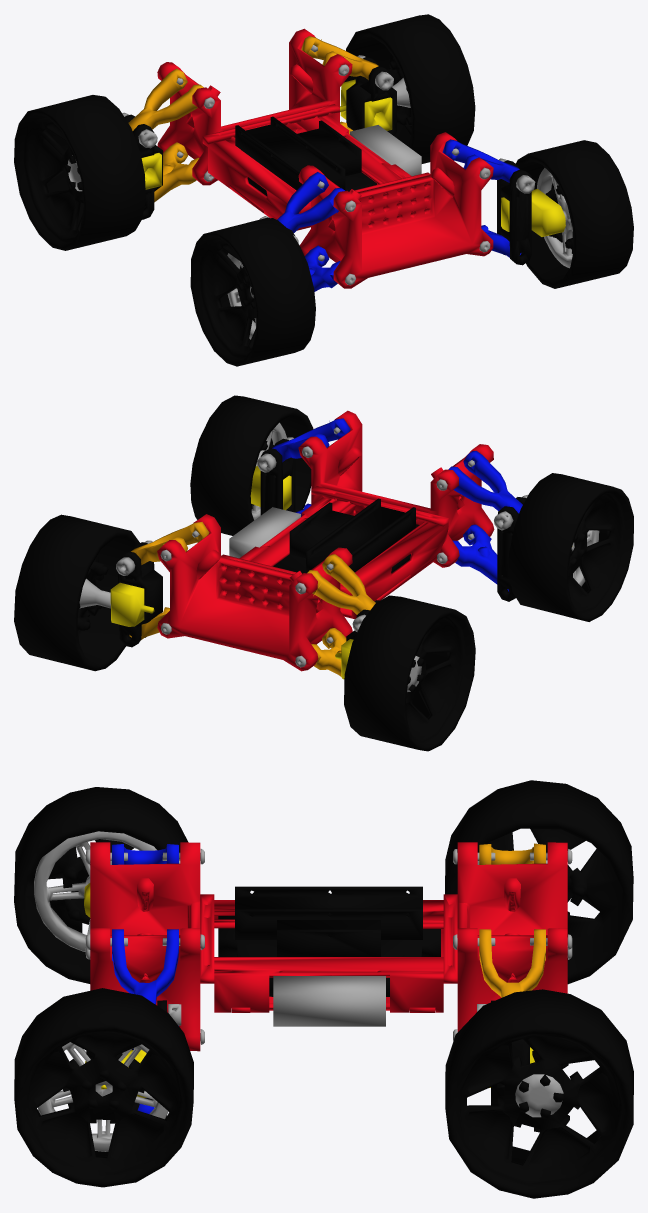
The model's file is car.glb.
The picture shows the model from 3 angles, top to bottom: view 1: azimuth 30°, elevation 25°; view 2: azimuth 150°, elevation 25°; view 3: azimuth 270°, elevation 25°; orthographic projection. The views are drawn at different scales.
Visible parts, largest first — view 1: Plane.001, Plane.024, Plane.023, Plane.014, Plane.015, Plane.009, Plane.028, Plane.022, Plane.003, Plane.045, Plane.013, Plane.027 (+12 smaller); view 2: Plane.024, Plane.009, Plane.023, Plane.015, Plane.001, Plane.014, Plane.028, Plane.045, Plane.022, Plane.006, Plane.013, Plane.027 (+11 smaller); view 3: Plane.015, Plane.014, Plane.001, Plane.024, Plane.009, Plane.023, Plane.028, Plane.013, Plane.027, Plane.063, Plane.012, Plane.032 (+5 smaller).
Part boxes in pixels (<box>): Plane.001: <box>202,104,493,288</box>; Plane.024: <box>14,95,145,250</box>; Plane.023: <box>190,217,315,366</box>; Plane.014: <box>515,140,633,288</box>; Plane.015: <box>344,14,475,163</box>; Plane.009: <box>157,28,352,185</box>; Plane.028: <box>235,116,345,190</box>; Plane.022: <box>128,68,203,130</box>; Plane.003: <box>500,169,531,265</box>; Plane.045: <box>277,172,344,232</box>; Plane.013: <box>350,125,421,176</box>; Plane.027: <box>297,120,361,176</box>; Plane.024: <box>344,595,475,751</box>; Plane.009: <box>157,514,352,671</box>; Plane.023: <box>509,473,633,621</box>; Plane.015: <box>14,514,139,671</box>; Plane.001: <box>221,410,494,619</box>; Plane.014: <box>190,395,313,535</box>; Plane.028: <box>306,498,415,573</box>; Plane.045: <box>449,451,522,513</box>; Plane.022: <box>307,554,375,614</box>; Plane.006: <box>119,551,162,647</box>; Plane.013: <box>229,507,300,558</box>; Plane.027: <box>289,502,353,558</box>; Plane.015: <box>445,989,633,1198</box>; Plane.014: <box>14,988,193,1187</box>; Plane.001: <box>90,842,457,1051</box>; Plane.024: <box>445,780,633,984</box>; Plane.009: <box>457,842,567,1031</box>; Plane.023: <box>14,787,187,983</box>; Plane.028: <box>235,886,422,939</box>; Plane.013: <box>273,976,385,1026</box>; Plane.027: <box>277,920,380,956</box>; Plane.063: <box>34,831,156,951</box>; Plane.012: <box>218,916,440,996</box>; Plane.032: <box>38,1042,168,1151</box>.
Size of the model in its own units: 6.67 by 2.38 by 7.08.
